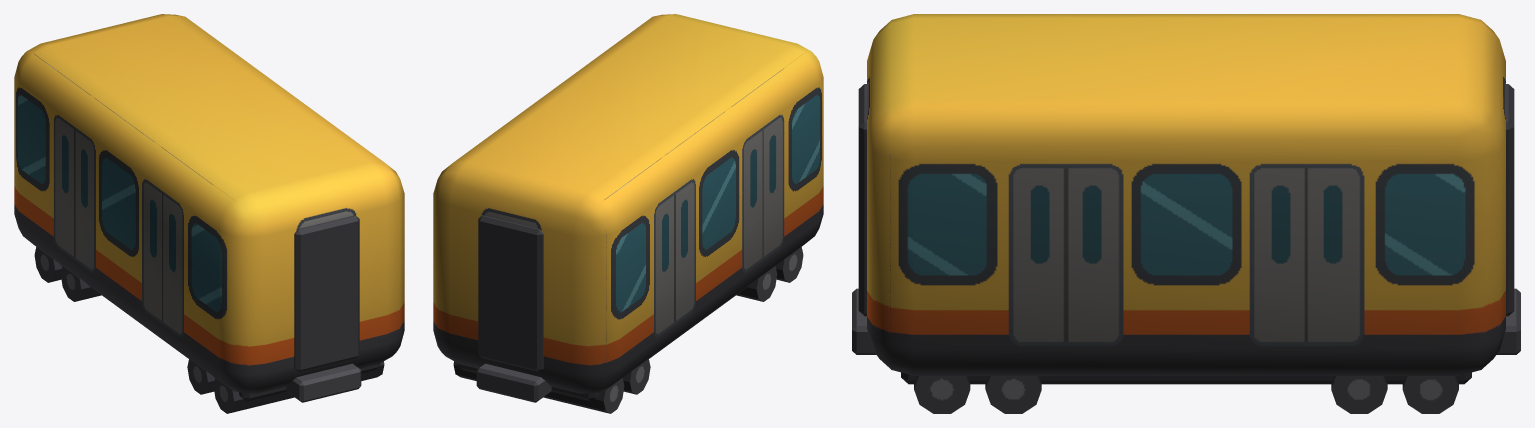
The model's file is TrainCar_Yellow.fbx.
3 renders of one model, left to right at view 1: azimuth 30°, elevation 25°; view 2: azimuth 150°, elevation 25°; view 3: azimuth 270°, elevation 25°, orthographic. The views are drawn at different scales.
Visible parts, largest first — view 1: TrainCar_Yellow; view 2: TrainCar_Yellow; view 3: TrainCar_Yellow.
Boxes of the visible parts, x1=… form: TrainCar_Yellow: x1=14, y1=14, x2=404, y2=413; TrainCar_Yellow: x1=433, y1=14, x2=823, y2=413; TrainCar_Yellow: x1=852, y1=14, x2=1520, y2=413.
Size of the model in its own units: 7.6 by 8.96 by 17.8.
1 material, 1 textured.
